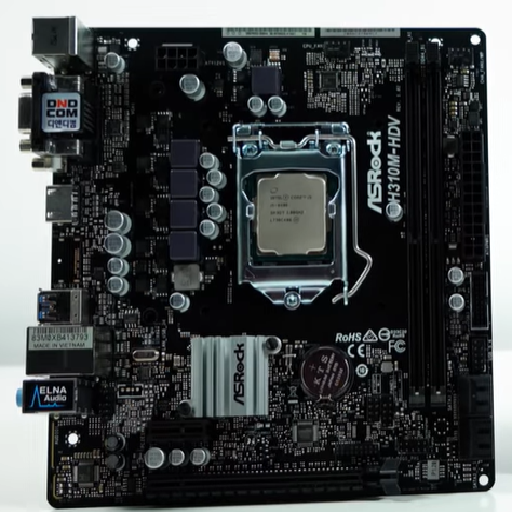CPU: (230, 121, 358, 310)
GPU: (141, 459, 404, 501)
MOTHERBOARD: (18, 17, 495, 495)
RAM: (400, 45, 454, 406)
